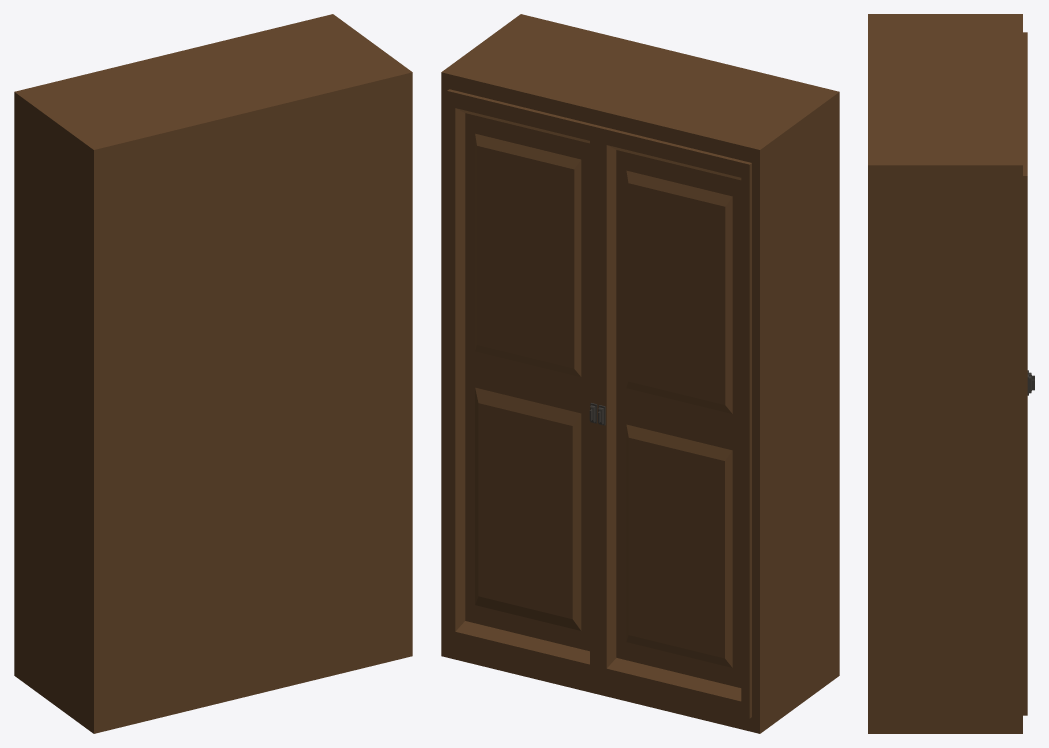
Rendered from Closet.fbx.
3 renders of one model, left to right at view 1: azimuth 30°, elevation 25°; view 2: azimuth 150°, elevation 25°; view 3: azimuth 270°, elevation 25°, orthographic. The views are drawn at different scales.
Visible parts, largest first — view 1: Plane; view 2: Plane; view 3: Plane.
Part boxes in pixels (x1,y1,x2,y2): Plane: [14, 14, 412, 733]; Plane: [441, 14, 839, 733]; Plane: [868, 14, 1034, 733].
Size of the model in its own units: 422 by 738 by 196.
